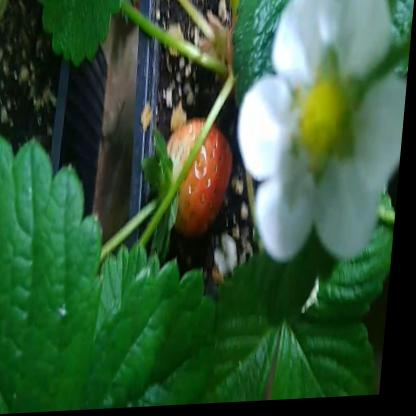ripe: (158, 118, 239, 239)
